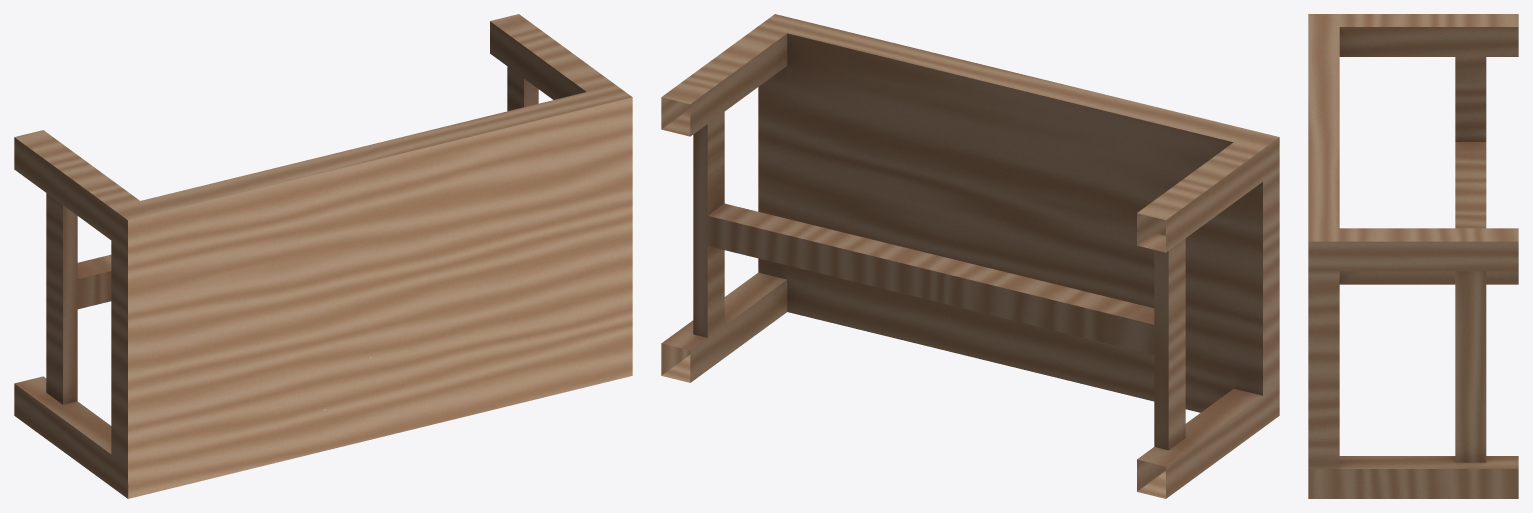
Rendered from table.obj.
3 renders of one model, left to right at view 1: azimuth 30°, elevation 25°; view 2: azimuth 150°, elevation 25°; view 3: azimuth 270°, elevation 25°, orthographic. The views are drawn at different scales.
Visible parts, largest first — view 1: table; view 2: table; view 3: table.
Boxes of the visible parts, <box> form: table: <box>14,14,632,498</box>; table: <box>661,14,1279,498</box>; table: <box>1308,14,1518,498</box>.
Size of the model in its own units: 1.74 by 0.9177 by 0.6785.
Materials: 1 (1 with a texture image).
